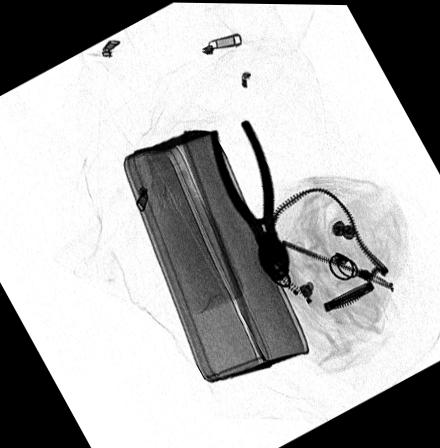Pliers: (207, 116, 290, 280)
